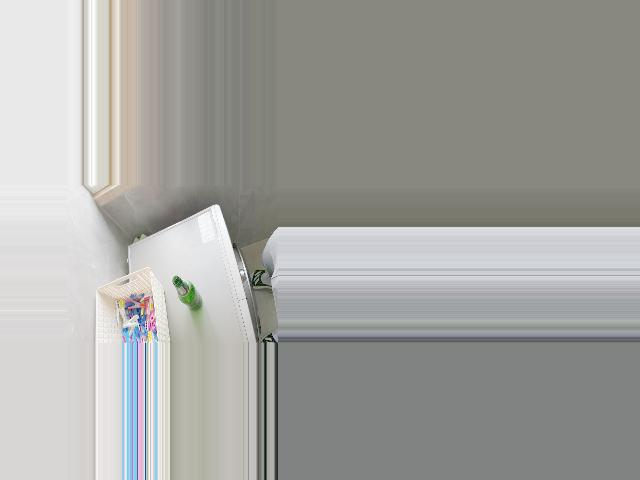beer: (173, 275, 202, 310)
